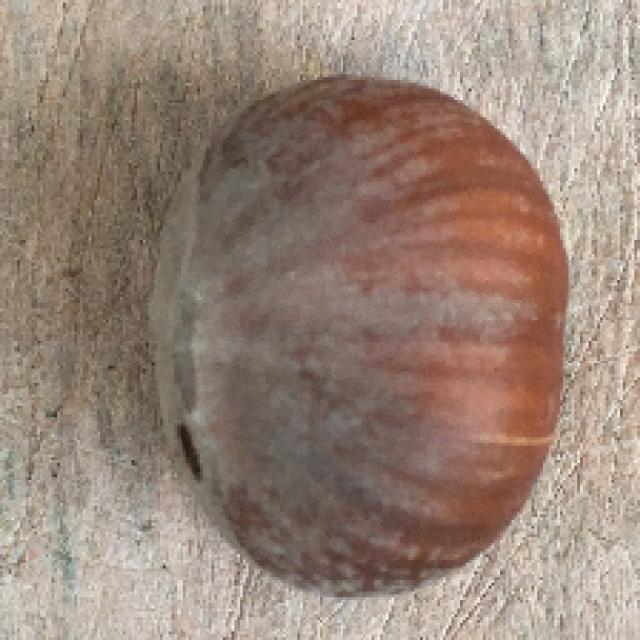damagedHazelnut: (145, 73, 577, 589)
